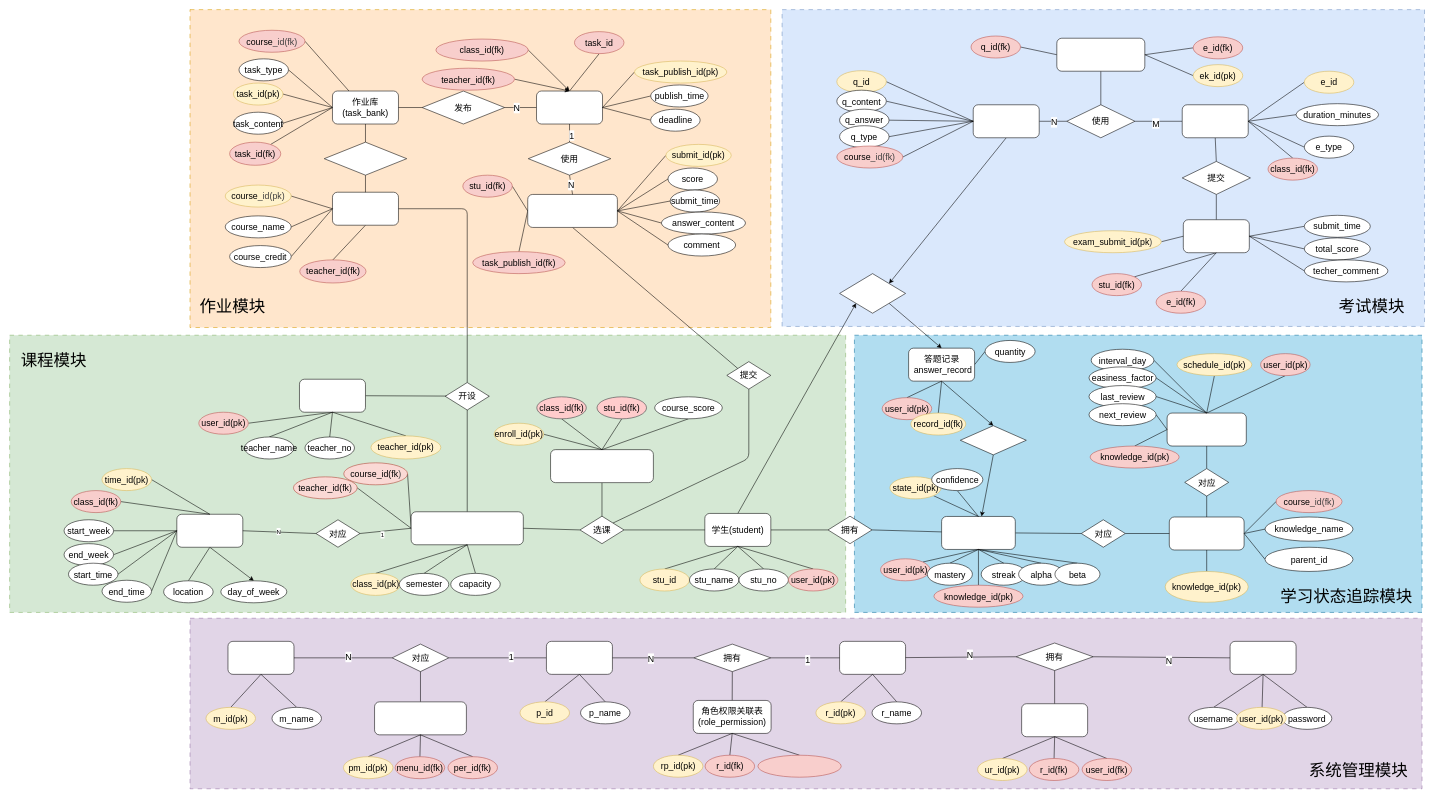
This 1434x799 diagram has some shape labels left out. Here are the shapes that lost their labels. From the top down, the centre of each, then its label:
(1100,54): 试卷题目详情表(exam_questions)
(569,107): 作业发布(task_release)
(1006,121): 试题库(questions)
(1215,121): 试卷(exam)
(365,158): 属于
(365,208): 课程(course)
(572,210): 作业提交表 (task_submission)
(1216,236): 学生答卷(exam_submit)
(872,293): 练习
(332,395): 教师(teacher)
(993,440): 产生
(1206,429): 复习计划 review_schedule
(601,466): 学生选课表(student_enrollment)
(209,530): 教学班时间安排(class_time)
(467,528): 教学班 (class/teaching_class)
(978,532): 学习状态 learning_state
(1206,533): 知识点 knowledge_point
(260,657): 菜单(menus)
(579,657): 权限(permission)
(872,657): 角色(role)
(1263,657): 用户(user)
(420,718): 权限菜单关联表(permission_menu)
(1054,720): 用户角色关联表(user_role)
(799,766): permission_id(fk)
